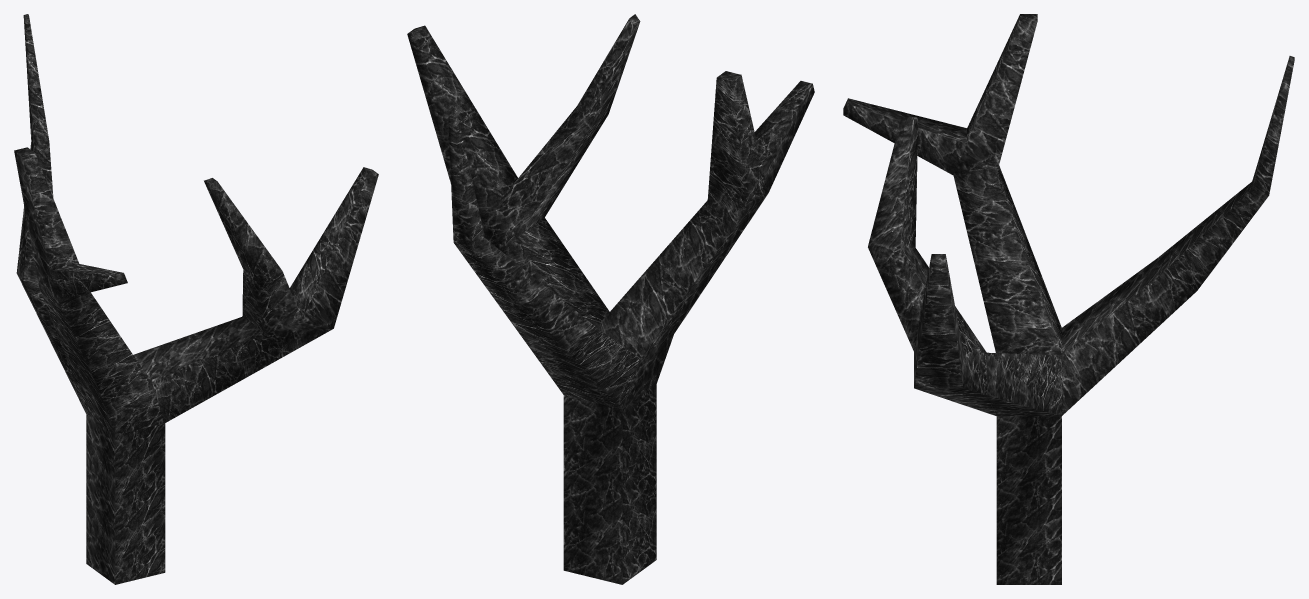
File: Burned Tree 1.fbx
3 views of the same model, side by side, from view 1: azimuth 30°, elevation 25°; view 2: azimuth 150°, elevation 25°; view 3: azimuth 270°, elevation 25° (orthographic). The views are drawn at different scales.
Visible parts, largest first — view 1: Cube; view 2: Cube; view 3: Cube.
Boxes of the visible parts, <box> form: Cube: <box>14,14,378,584</box>; Cube: <box>407,14,814,584</box>; Cube: <box>843,14,1294,584</box>.
Size of the model in its own units: 4.85 by 4.45 by 6.2.
1 material, 1 textured.
